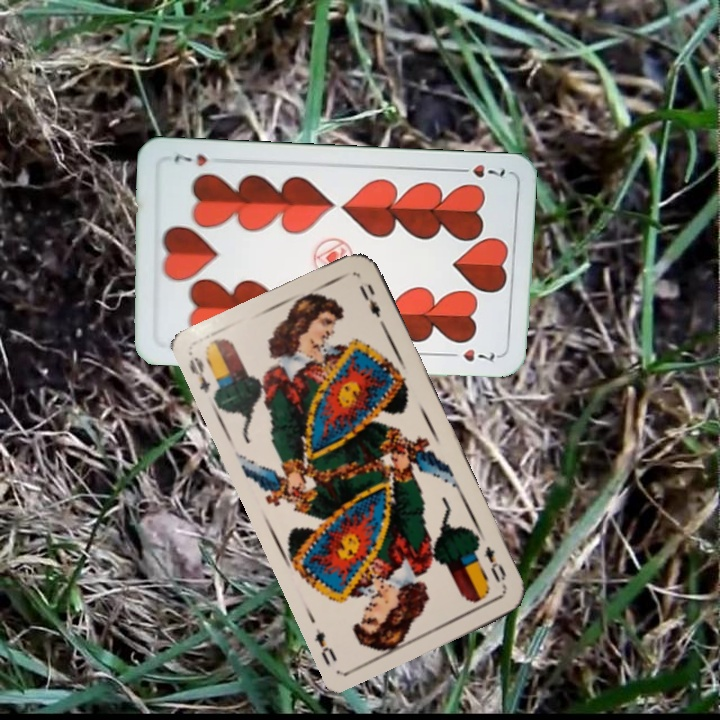EO: (479, 541, 509, 586), (185, 352, 213, 396)
H7: (452, 160, 509, 180)
